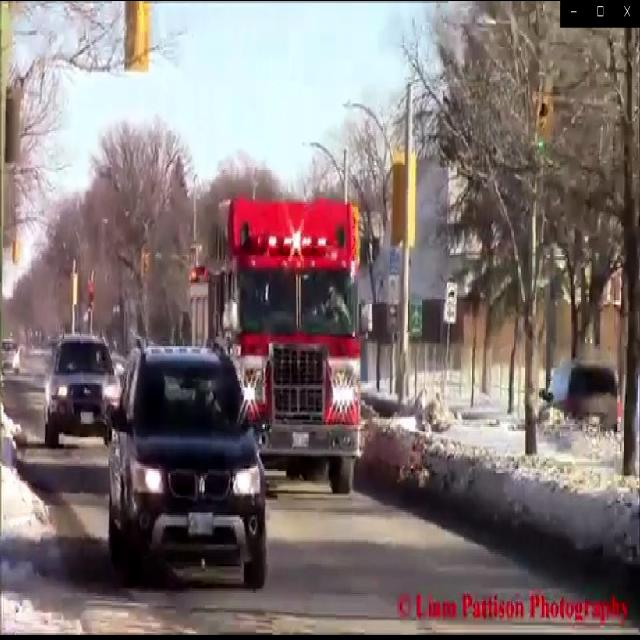emergency: (188, 202, 366, 498)
